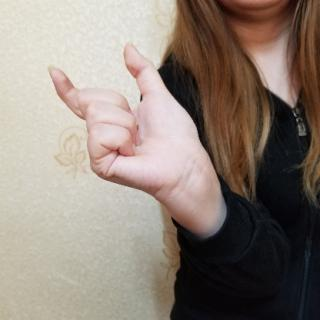NOON: (44, 38, 199, 214)
